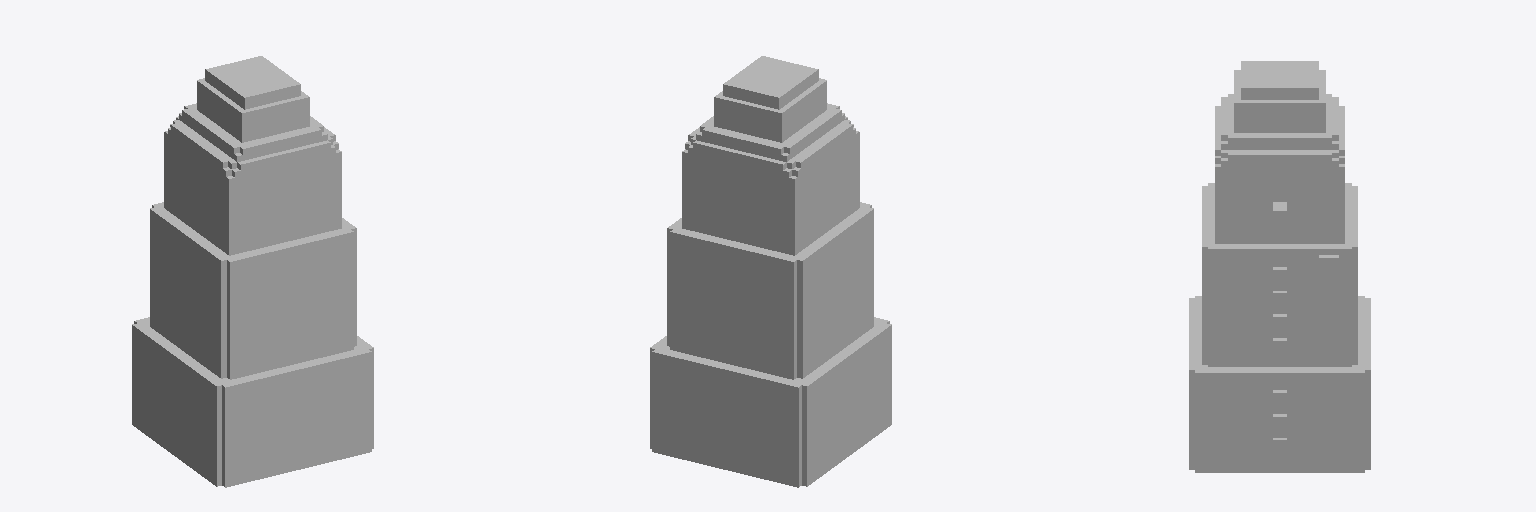
Rendered from Snowman.obj.
The picture shows the model from 3 angles: view 1: azimuth 30°, elevation 25°; view 2: azimuth 150°, elevation 25°; view 3: azimuth 270°, elevation 25°; orthographic projection.
Parts seen in each view (by area): view 1: Snowman; view 2: Snowman; view 3: Snowman.
Boxes of the visible parts, x1=… form: Snowman: x1=132, y1=56, x2=373, y2=487; Snowman: x1=650, y1=56, x2=891, y2=487; Snowman: x1=1189, y1=61, x2=1370, y2=472.
Size of the model in its own units: 29 by 61 by 28.